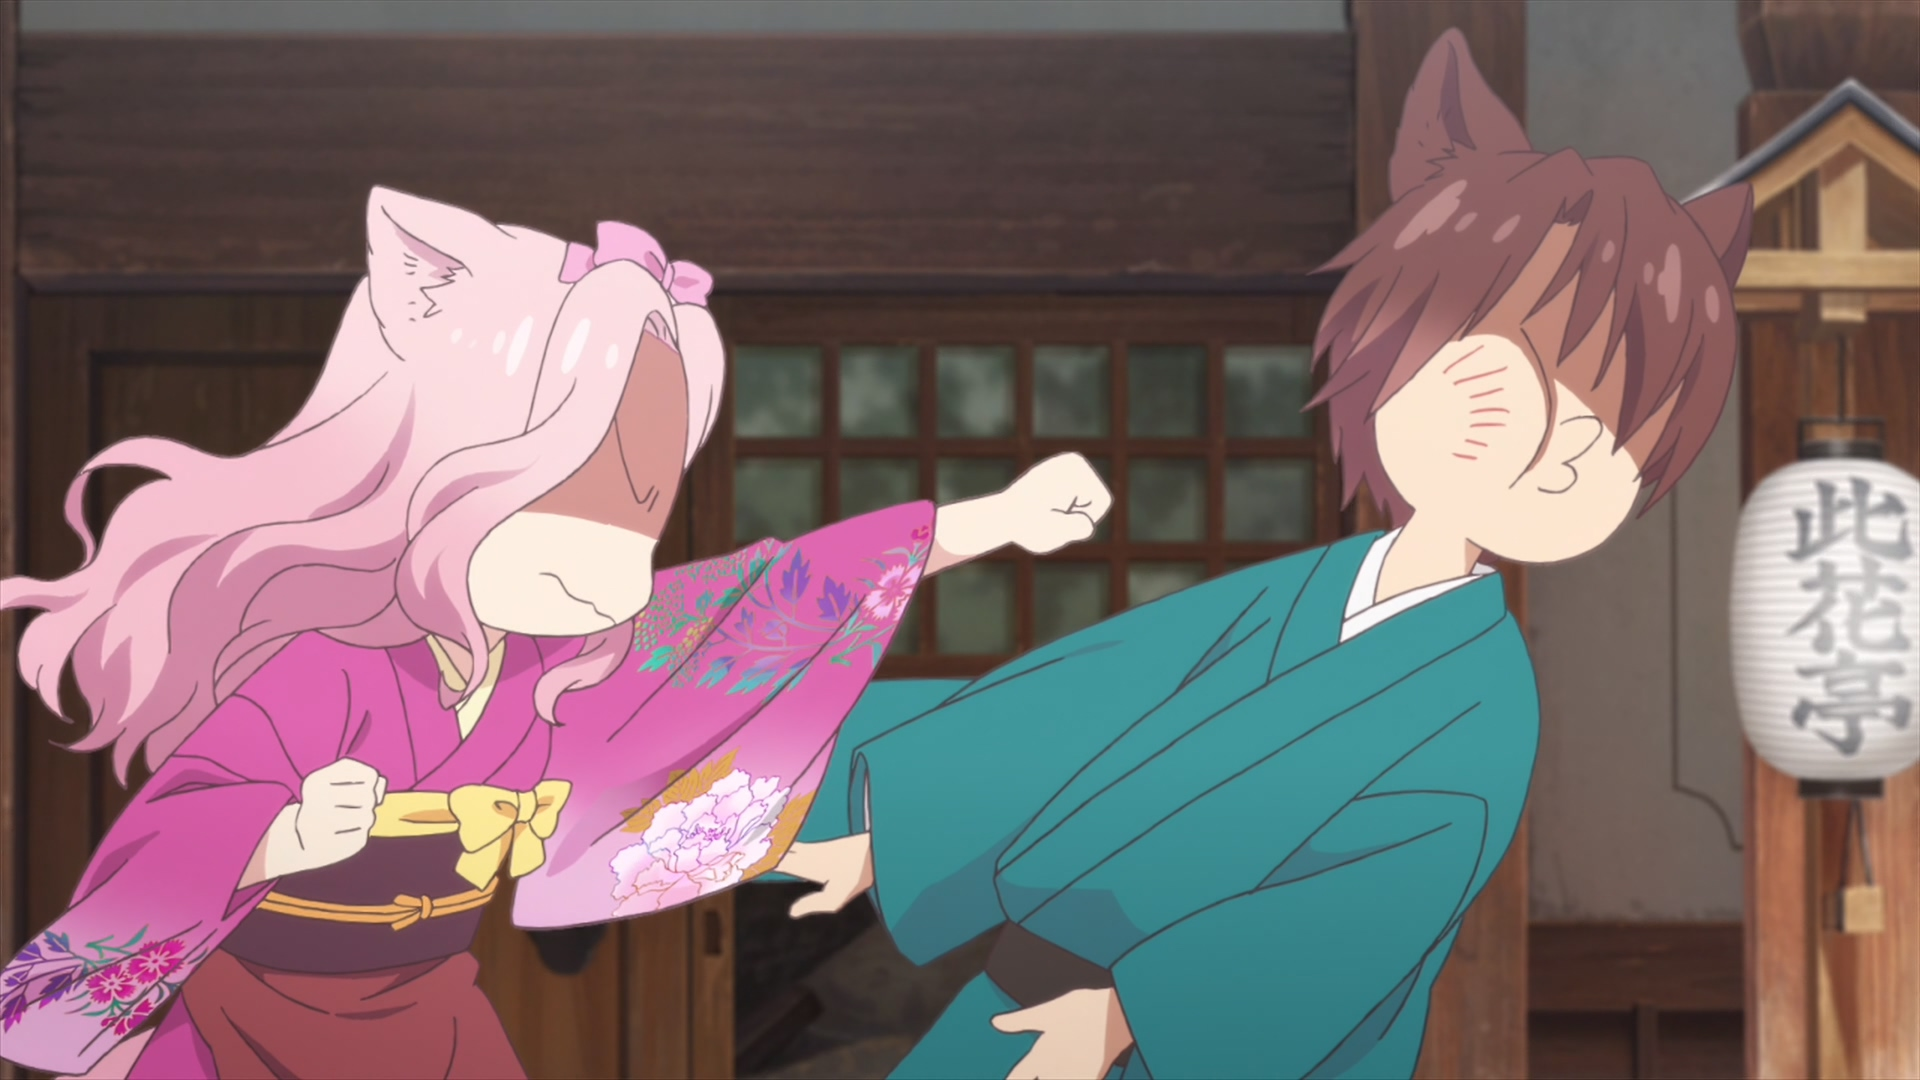枣: (744, 28, 1755, 1080)
莲: (1, 183, 1116, 1080)
